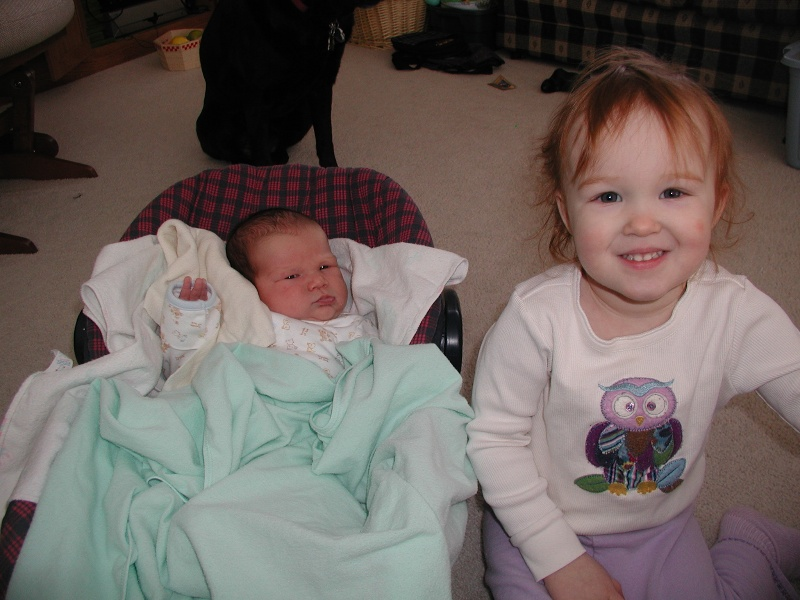face: (548, 103, 743, 308), (230, 221, 354, 332)
